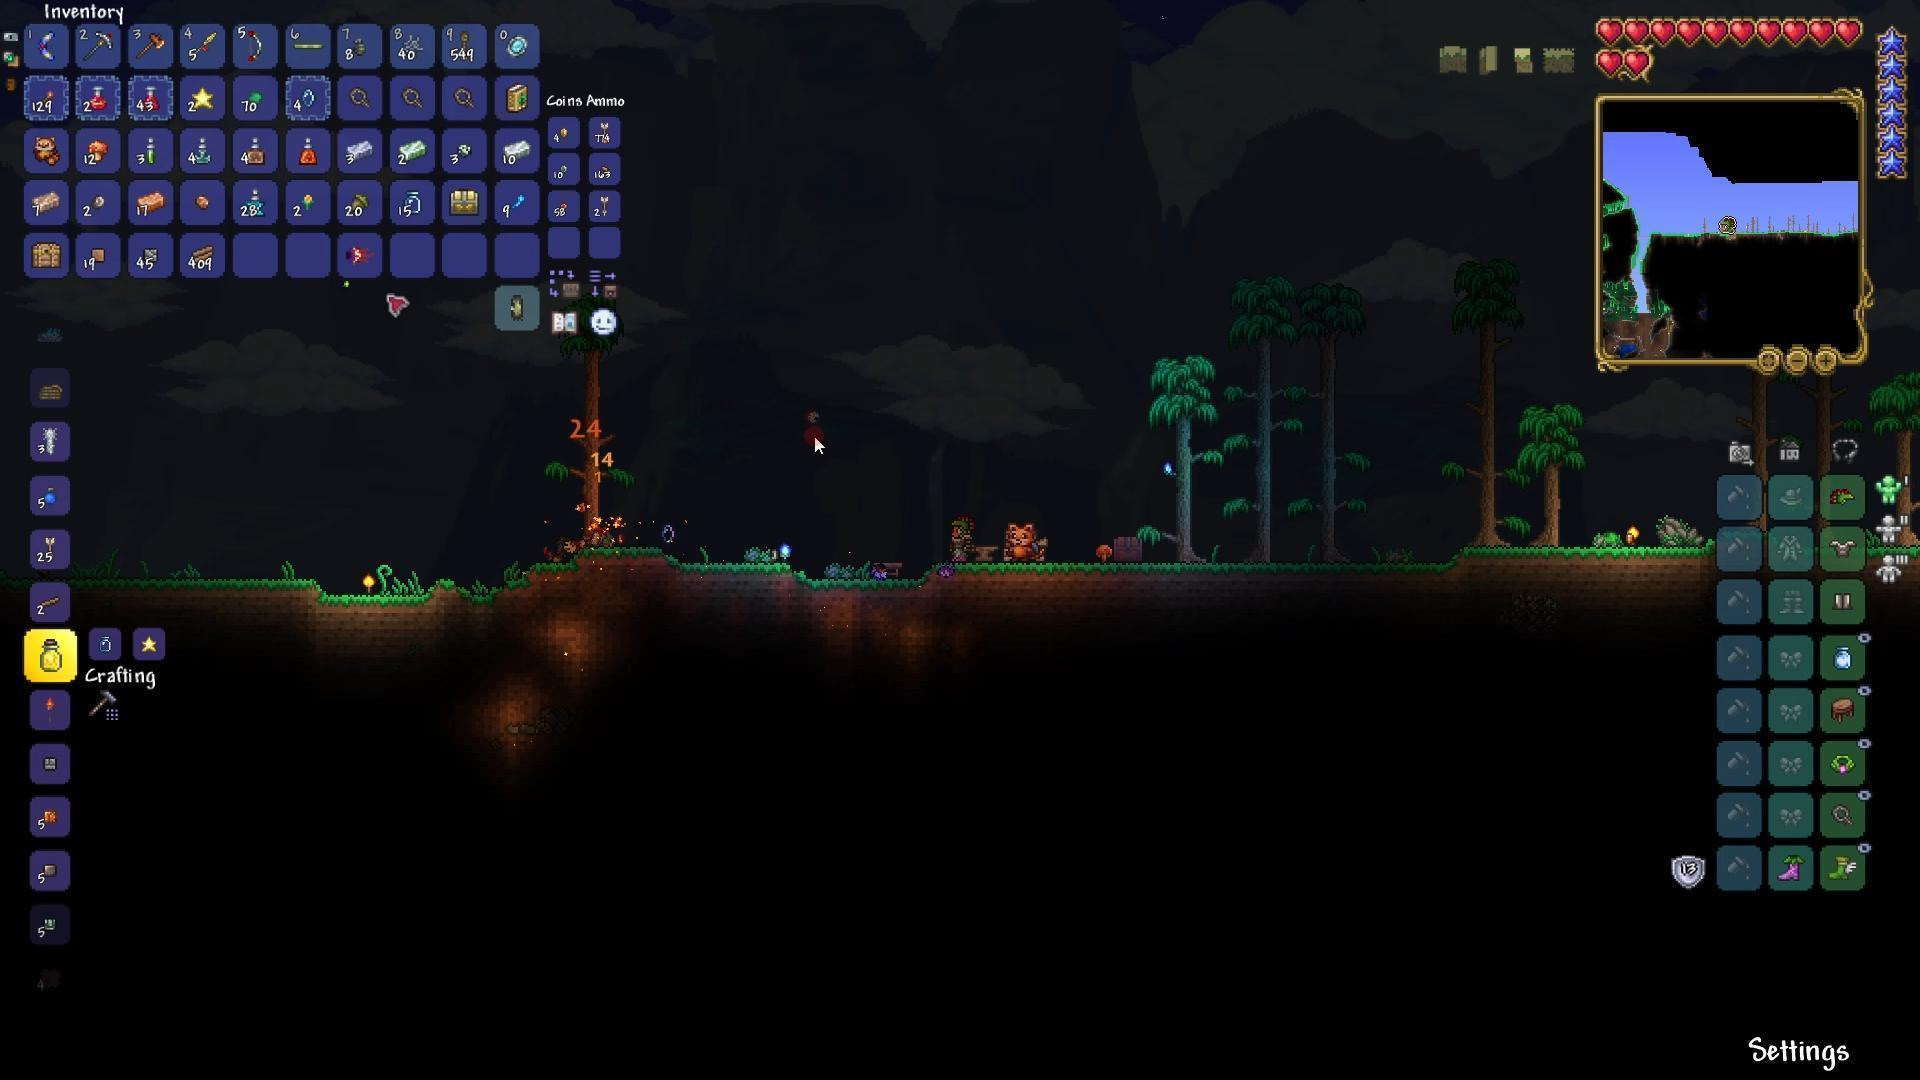anvil: (967, 538, 997, 563)
arrow: (41, 533, 59, 562)
axe: (137, 30, 167, 61)
breastplate: (1826, 538, 1862, 563)
chest: (1109, 531, 1151, 563)
cobwebI: (401, 32, 425, 58)
eye: (344, 239, 378, 266)
legs: (1829, 591, 1861, 615)
lens: (658, 520, 679, 547), (301, 83, 319, 109)
wood: (187, 240, 218, 264)
